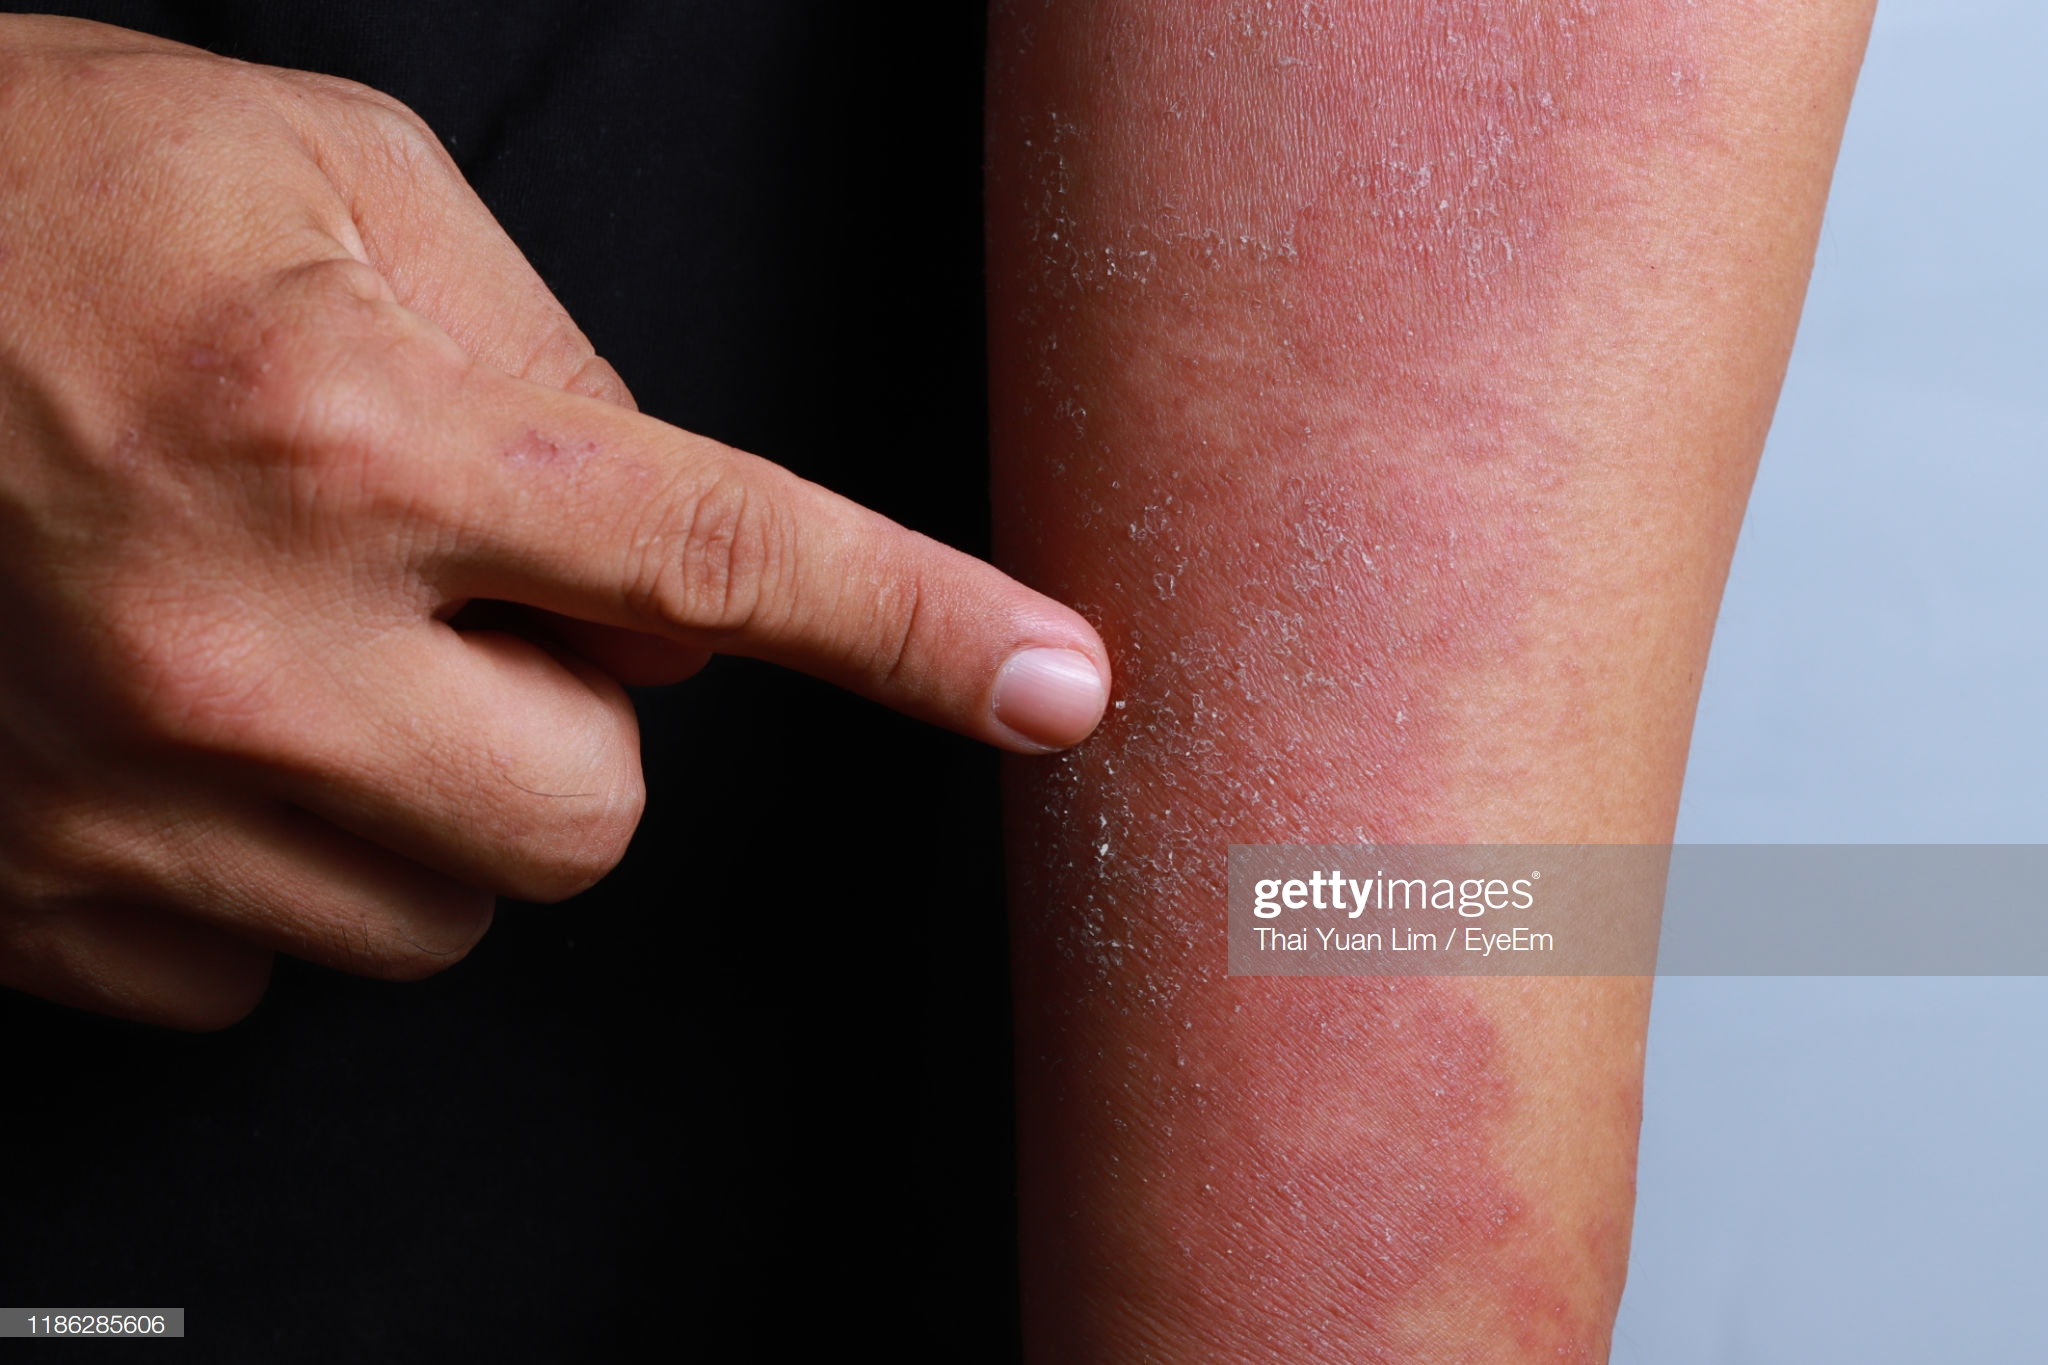Eczema: (1046, 174, 1559, 1331)
